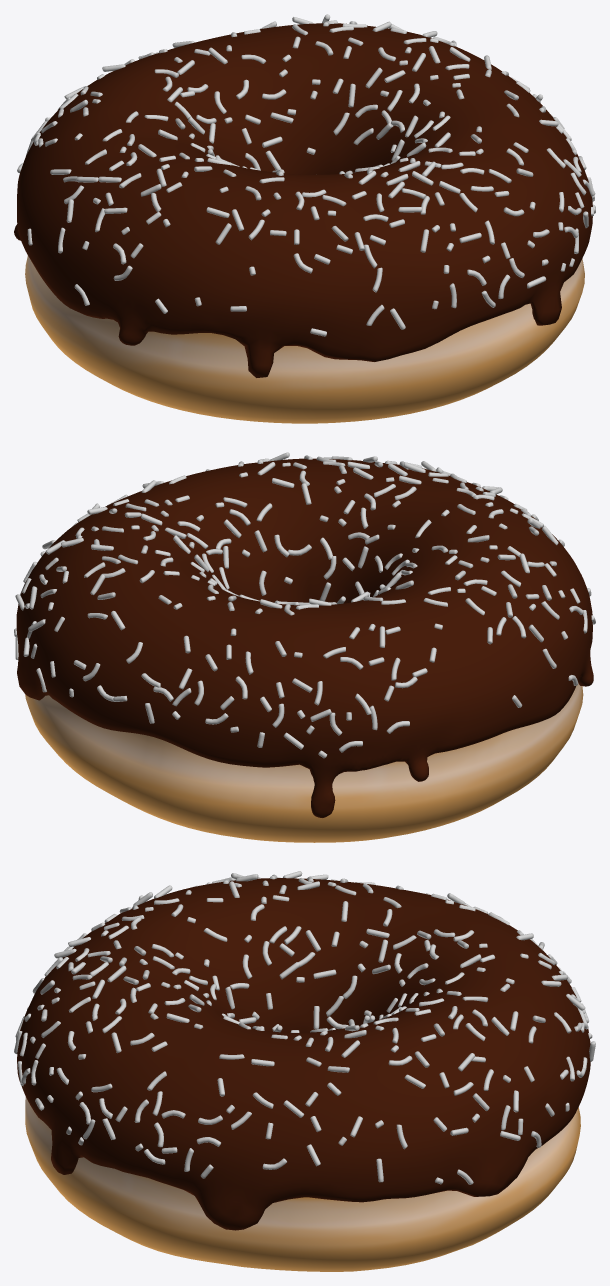
Rendered from Donut.glb.
3 views of the same model, one above another, from view 1: azimuth 30°, elevation 25°; view 2: azimuth 150°, elevation 25°; view 3: azimuth 270°, elevation 25° (orthographic). The views are drawn at different scales.
Parts seen in each view (by area): view 1: Icing, Donut; view 2: Icing, Donut; view 3: Icing, Donut.
Boxes of the visible parts, x1,y1,x2,y2 form: Icing: (14, 14, 595, 377); Donut: (25, 256, 584, 423); Icing: (14, 452, 595, 817); Donut: (25, 683, 583, 842); Icing: (14, 871, 595, 1230); Donut: (25, 1097, 580, 1271).
Size of the model in its own units: 0.0996 by 0.0441 by 0.0988.
Materials: 3 (1 with a texture image).
